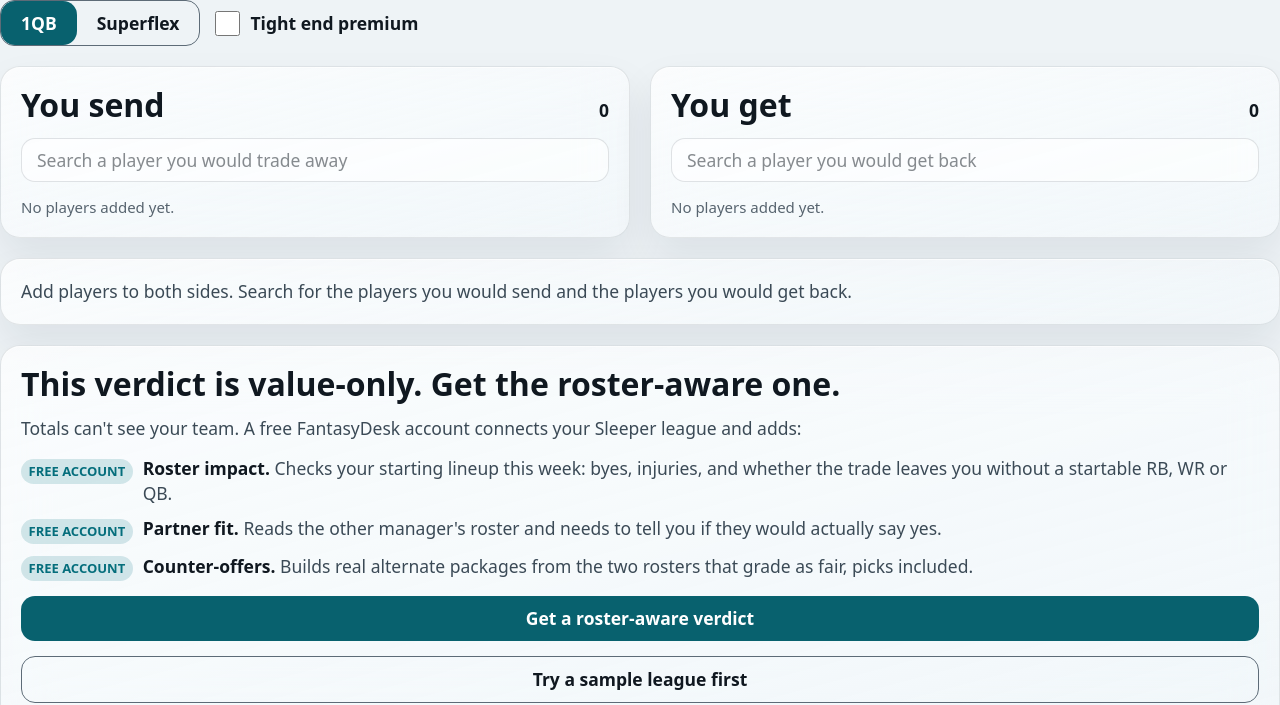
Test case: PublicTradeAnalyzer › searches, adds to each side and shows a value-only verdict with the soft gate
Type "jacobs" into the dropdown named "Search players for You send" at (315, 160), box left=21, top=138, right=609, bottom=182
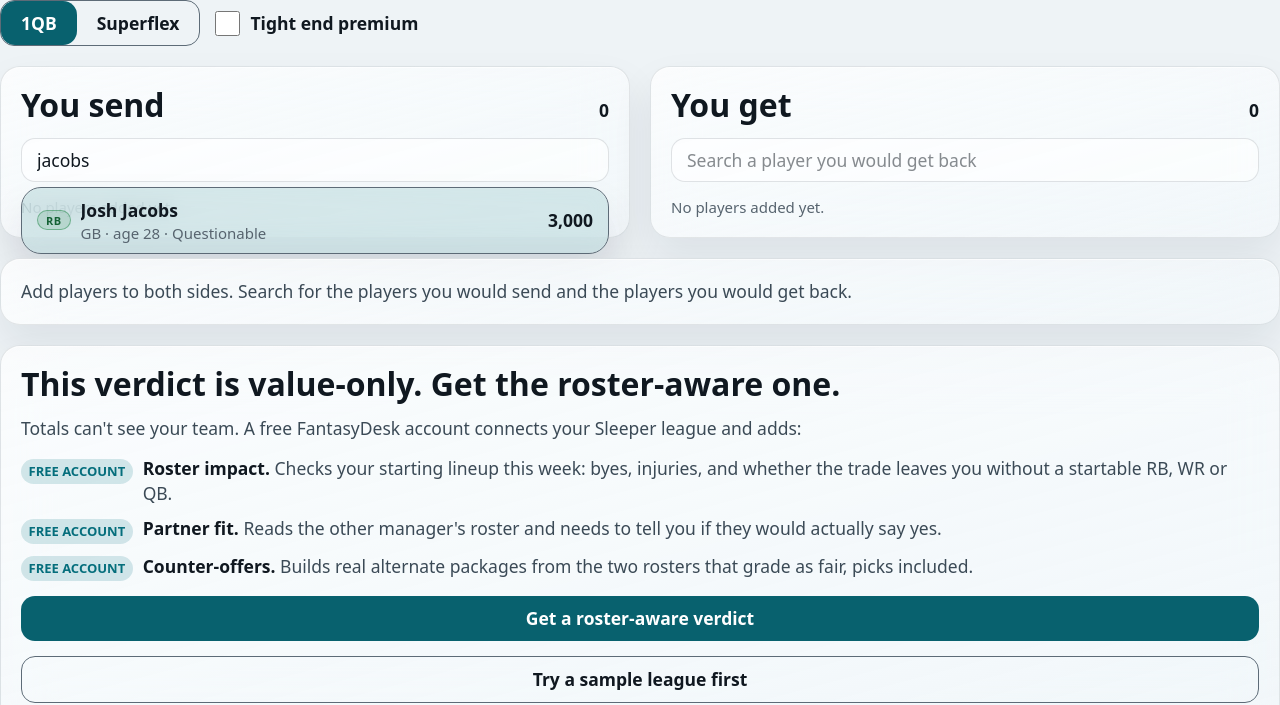
Press the mouse on the text "Josh Jacobs" at (129, 210), box left=80, top=198, right=178, bottom=222
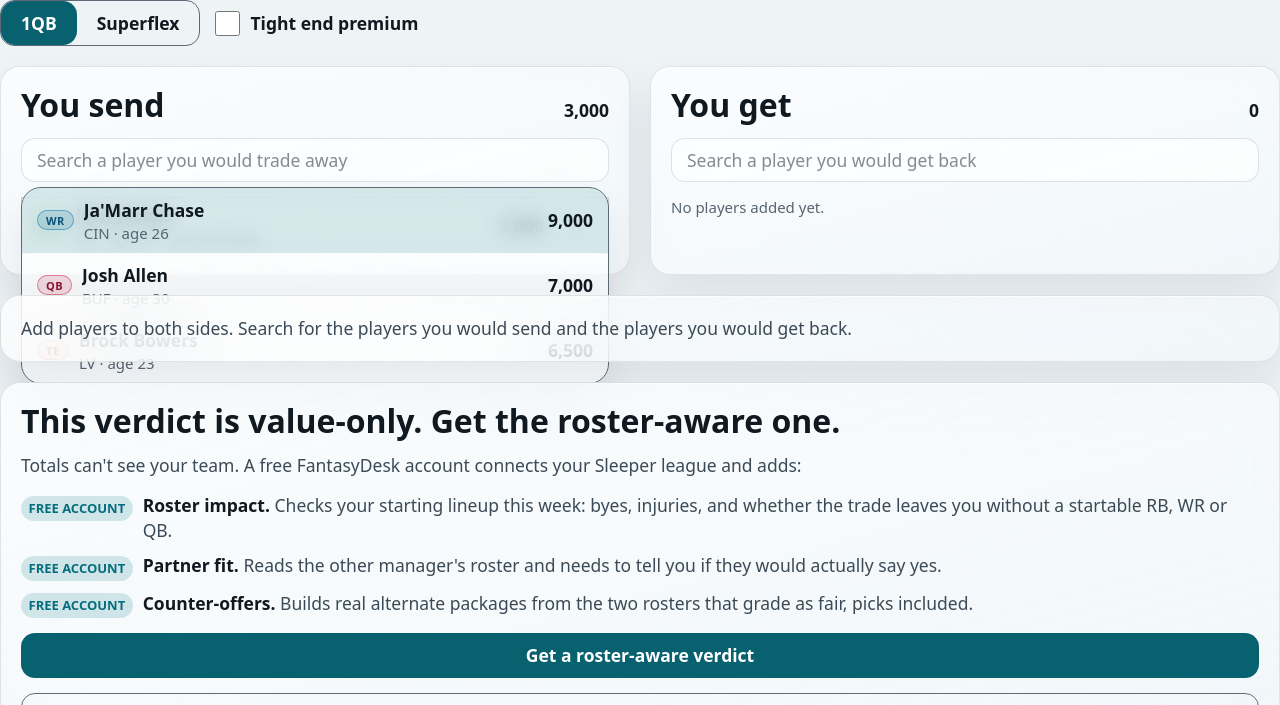
Type "chase" into the dropdown with placeholder "Search a player you would get back" at (965, 160), box left=671, top=138, right=1259, bottom=182
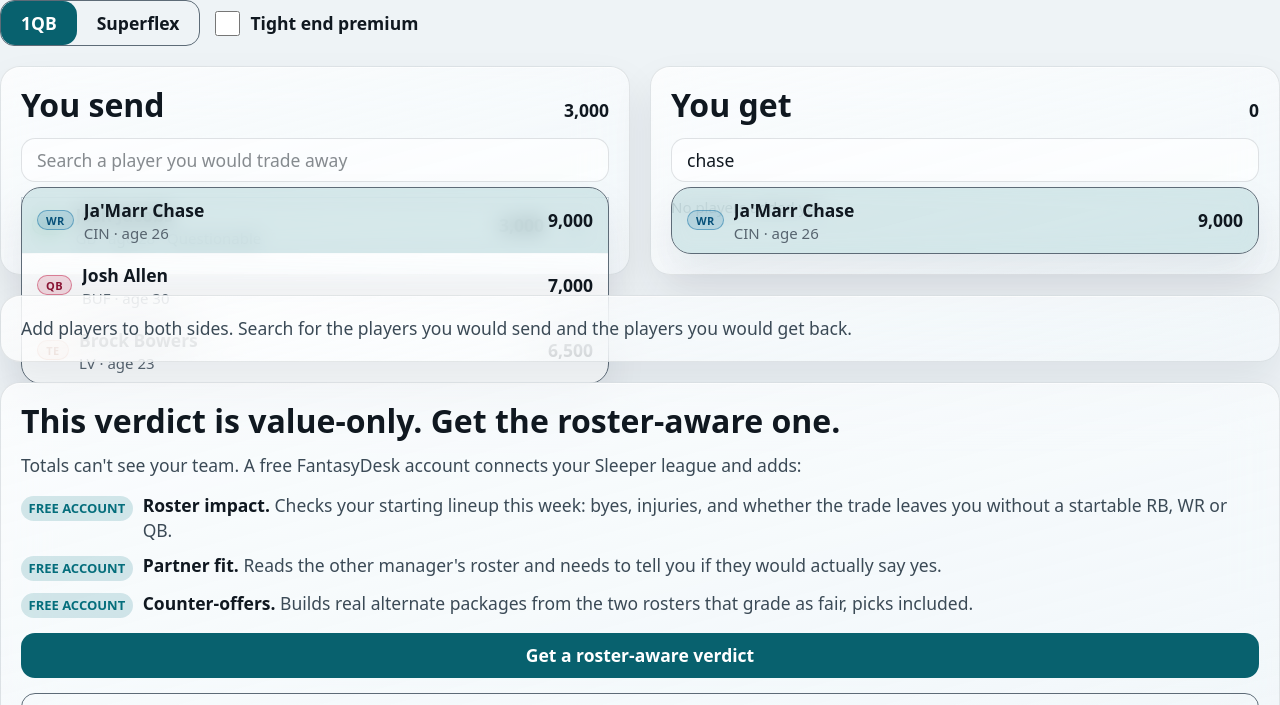
Press the mouse on the text "Ja'Marr Chase" next to "No players added yet." at (794, 210), box left=734, top=198, right=854, bottom=222
(page scrolled)
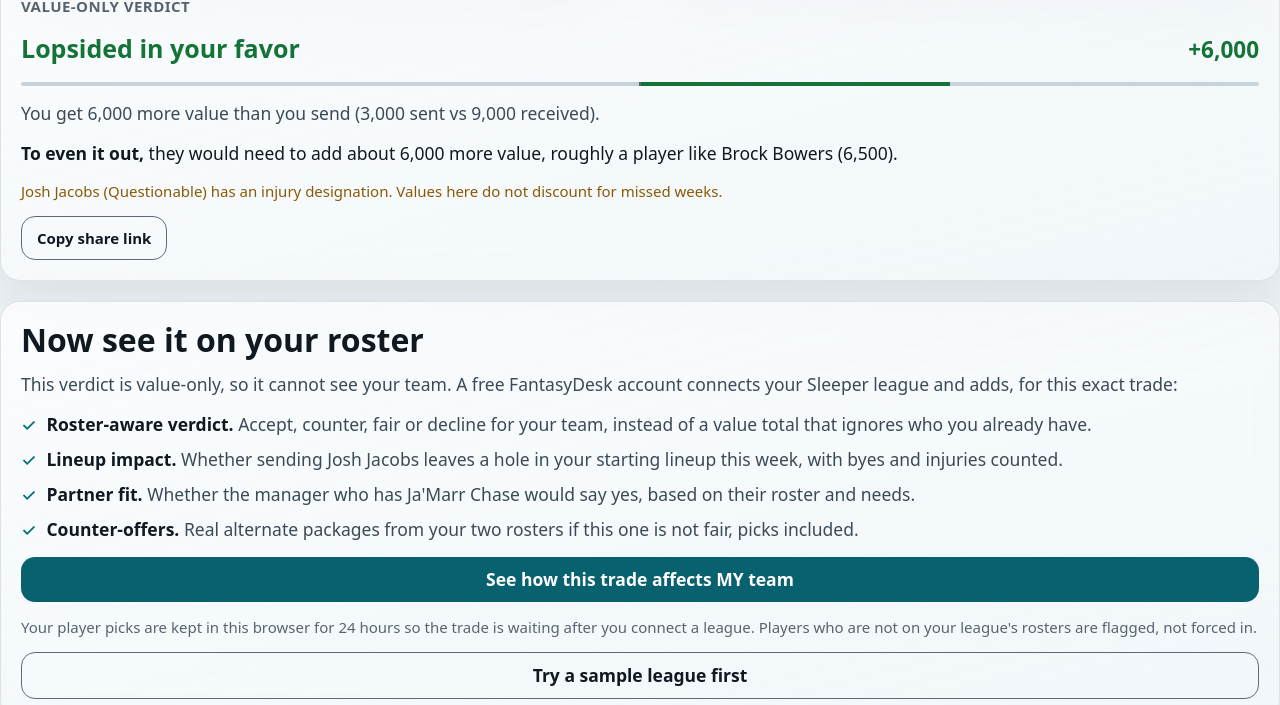
Expected: the element with test id "trade-result" shows "Lopsided in your favor", left=21, top=31, right=300, bottom=65
Expected: the element with test id "trade-result" shows "+6,000", left=1188, top=34, right=1259, bottom=65
Expected: the element with test id "trade-result" shows "Josh Jacobs (Questionable)", left=21, top=181, right=722, bottom=201
